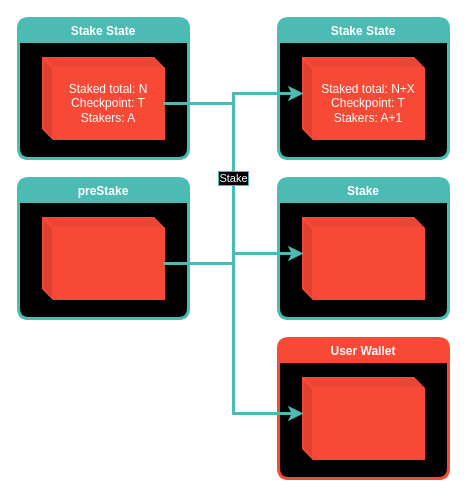
This 467x497 diagram has some shape labels left out. Each missing label, with the centre of its shape:
"ErgoPad: X" goes at (103,258).
"ErgoPad: X Checkpoint: T" goes at (363,258).
"Stake Key" goes at (363,418).
